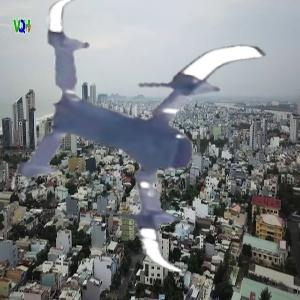drone: (11, 2, 285, 276)
